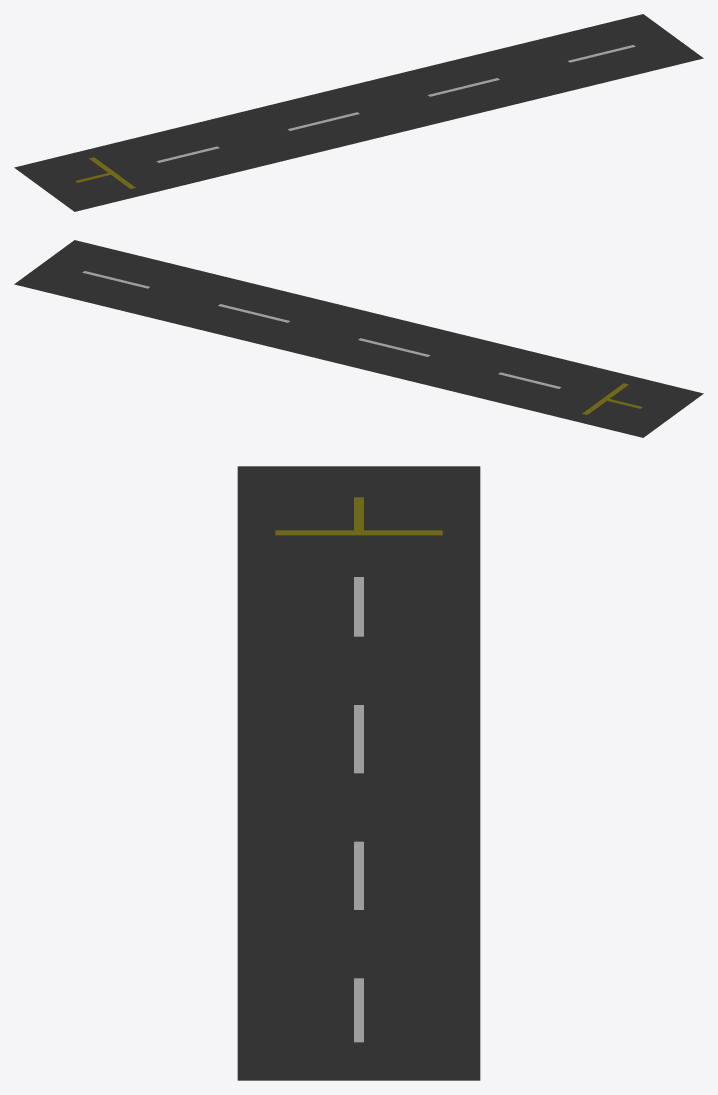
File: Road_1.fbx
3 views of the same model, one above another, from view 1: azimuth 30°, elevation 25°; view 2: azimuth 150°, elevation 25°; view 3: azimuth 270°, elevation 25° (orthographic). The views are drawn at different scales.
Parts seen in each view (by area): view 1: Plane; view 2: Plane; view 3: Plane.
Boxes of the visible parts, x1,y1,x2,y2 form: Plane: (14,14,703,211); Plane: (14,240,703,437); Plane: (237,466,480,1080).
Bounding box in the file's own units: 1198 × 3.26e-05 × 200.
Materials: 1 (1 with a texture image).
